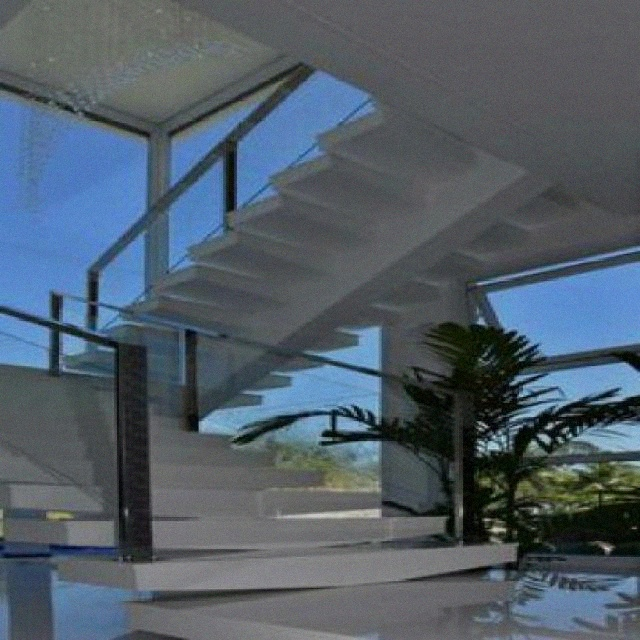stair: (2, 321, 515, 605), (50, 84, 558, 299)
